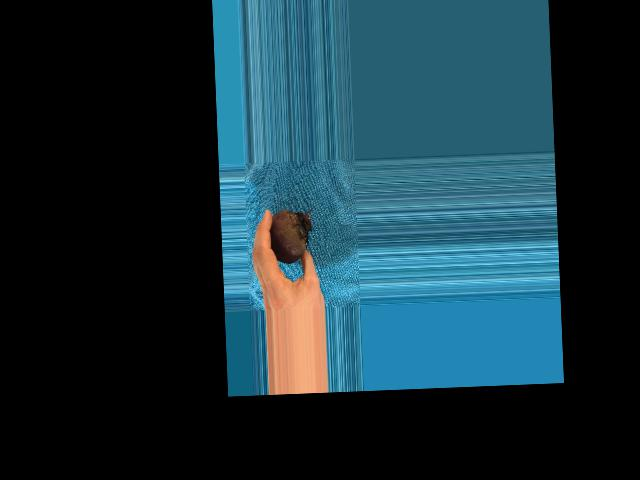beet: (269, 208, 314, 263)
